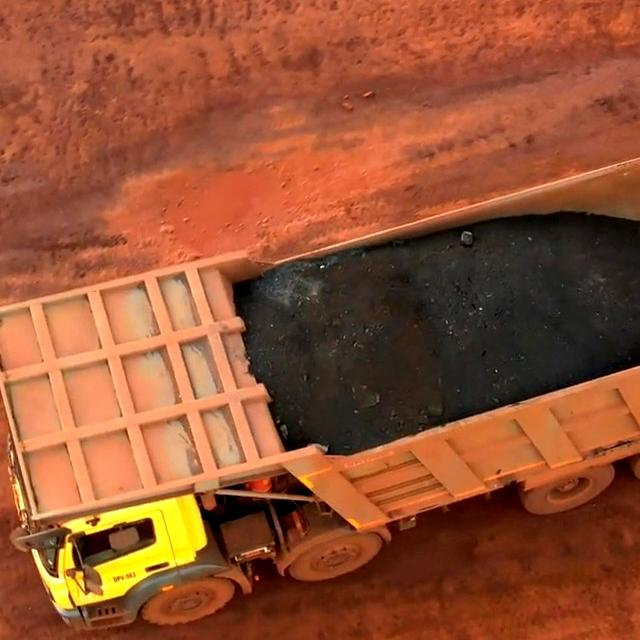Dumper truck: (26, 339, 336, 625)
